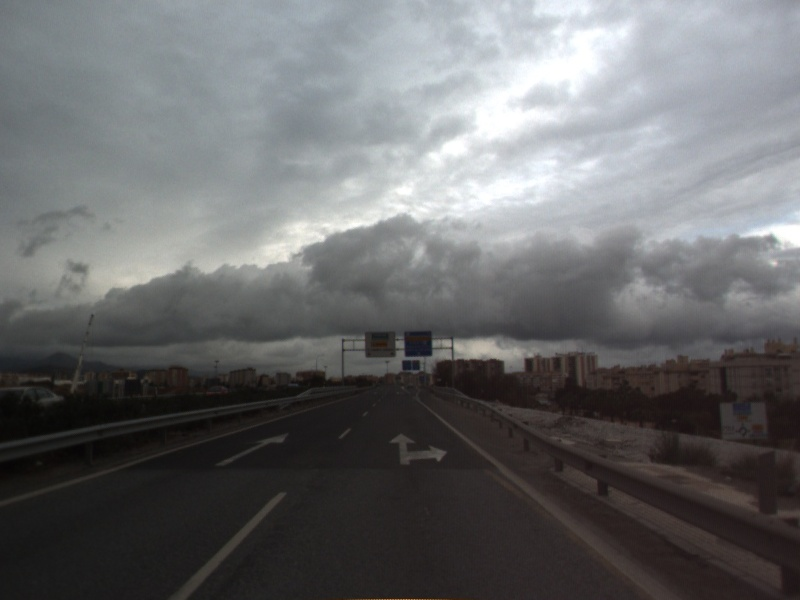STRAIGHT: (212, 430, 291, 468)
STRAIGHT_RIGHT: (386, 431, 449, 467)
